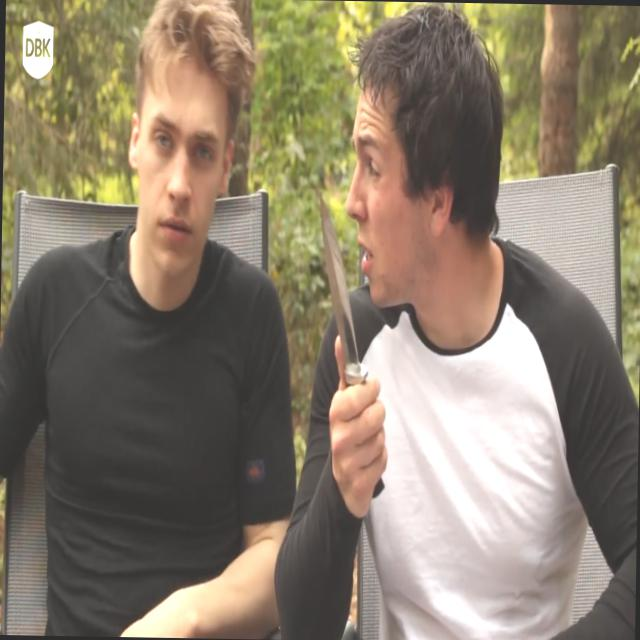knife: (308, 182, 401, 520)
